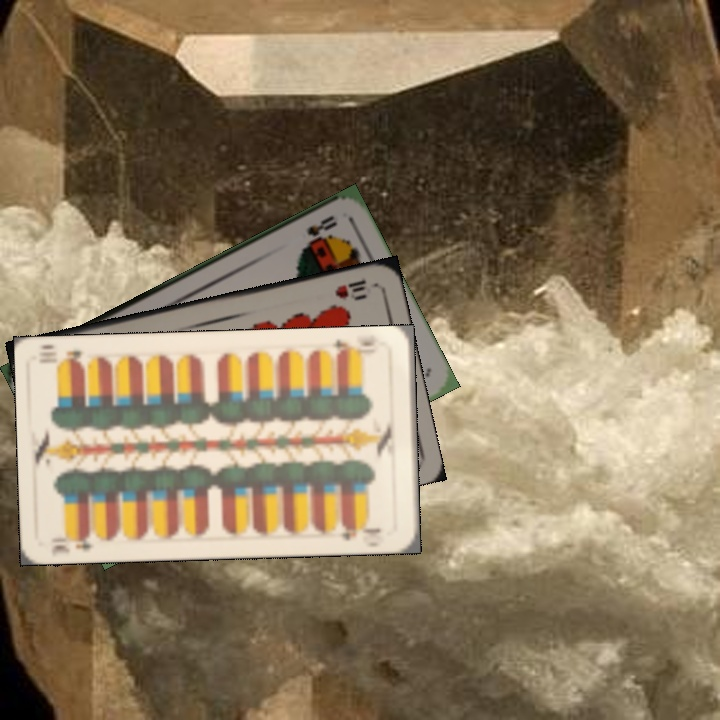E10: (329, 333, 388, 361), (47, 528, 95, 556)
H10: (331, 275, 369, 302)
SO: (302, 211, 340, 247)
